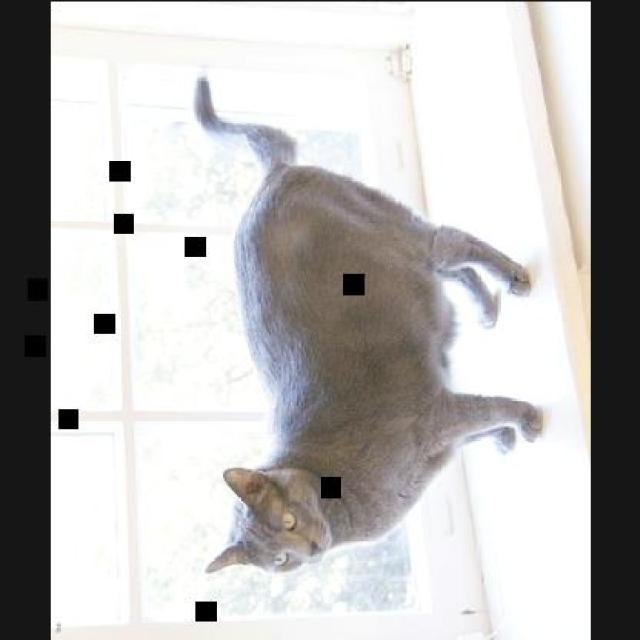unauthorized: (190, 74, 544, 575)
